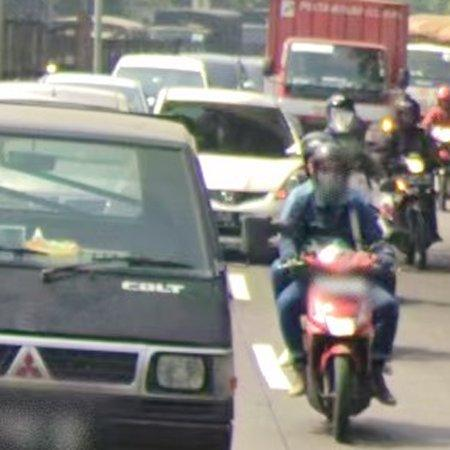motorcycles: (303, 241, 378, 442)
